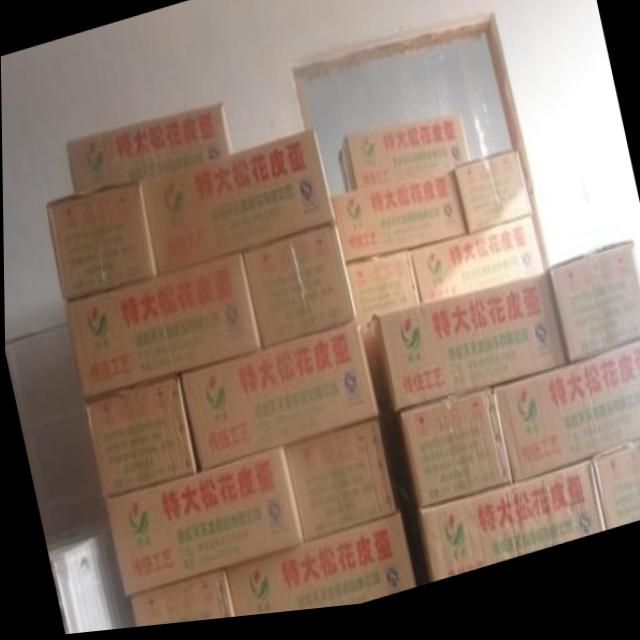box: (104, 451, 304, 597), (178, 330, 377, 475), (63, 258, 260, 402), (138, 137, 335, 280), (373, 283, 568, 421), (395, 472, 604, 593), (492, 352, 640, 494), (224, 524, 414, 622), (64, 106, 233, 195), (82, 378, 197, 500), (241, 234, 355, 354), (396, 396, 510, 516), (283, 425, 395, 545), (329, 177, 467, 271), (45, 183, 154, 300), (346, 258, 420, 422), (548, 254, 640, 376), (410, 228, 543, 309), (337, 121, 471, 196), (453, 160, 533, 244), (129, 575, 233, 630), (589, 454, 640, 540)
